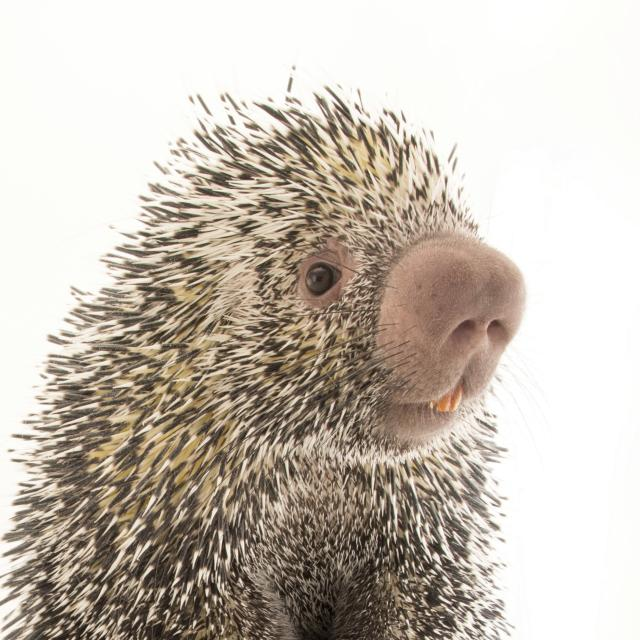porcupine: (0, 85, 526, 640)
